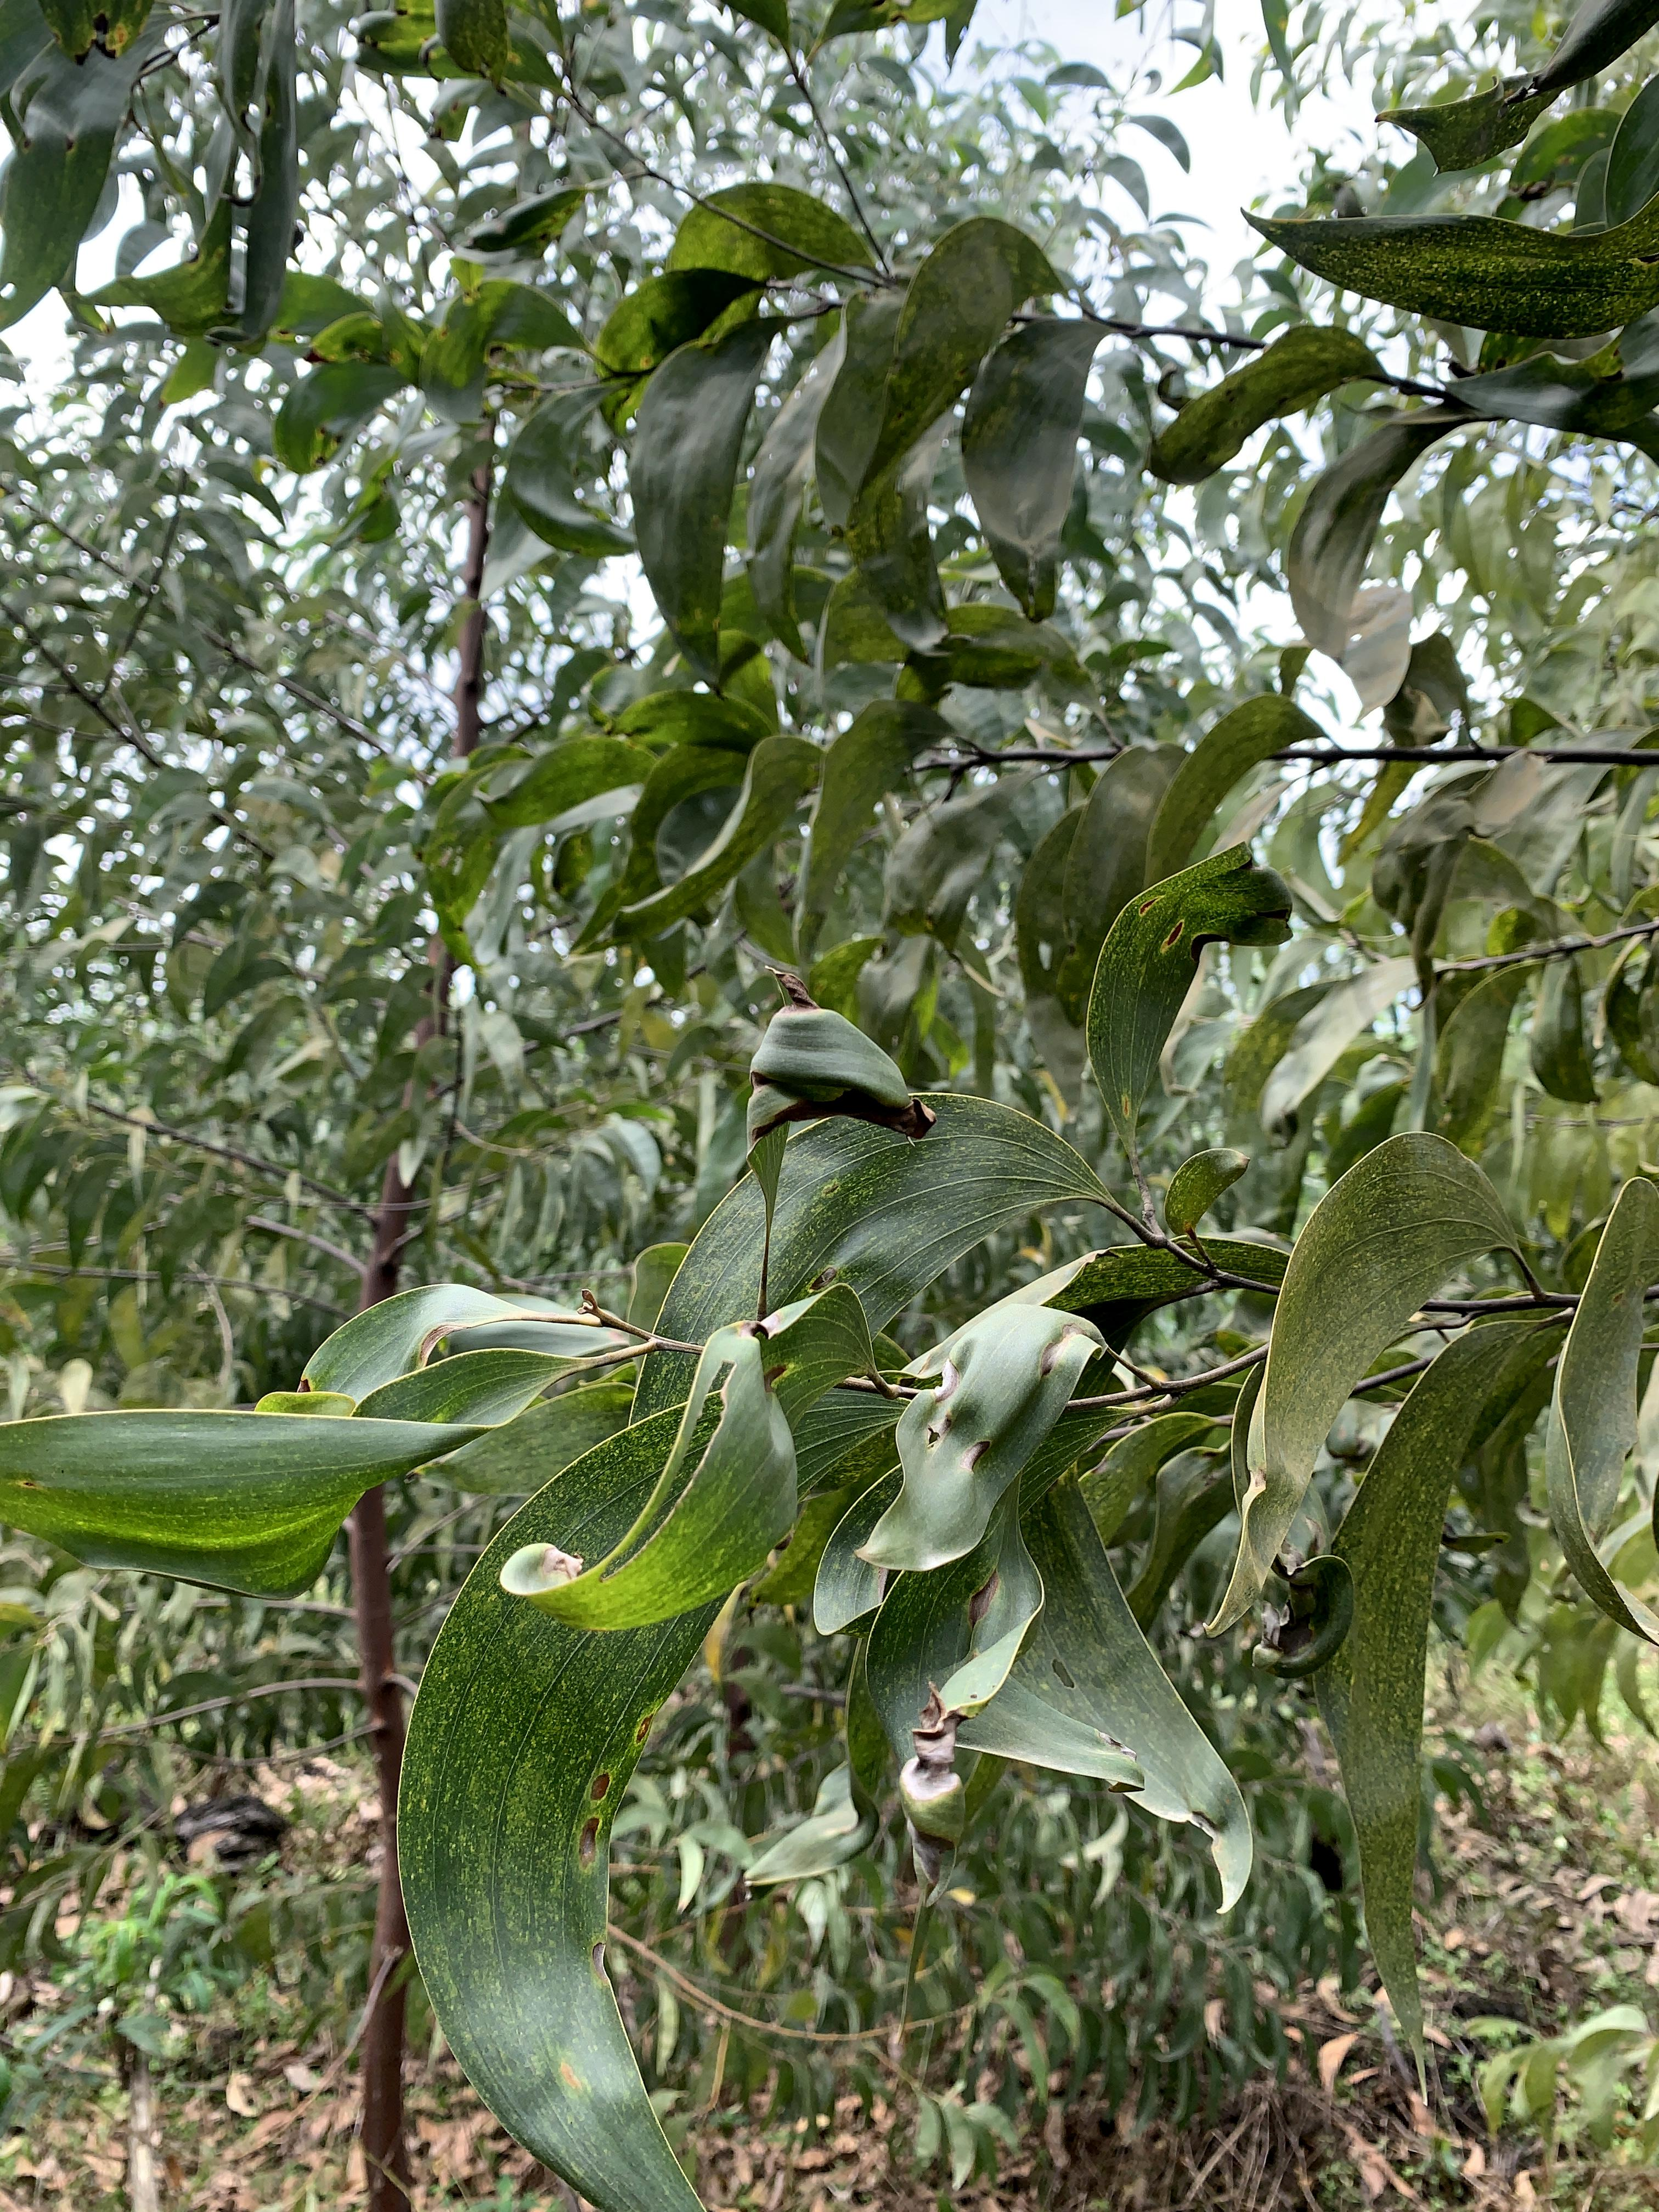Pasalora: (875, 1362, 1124, 1580), (735, 1000, 948, 1169), (894, 1533, 971, 1883)
